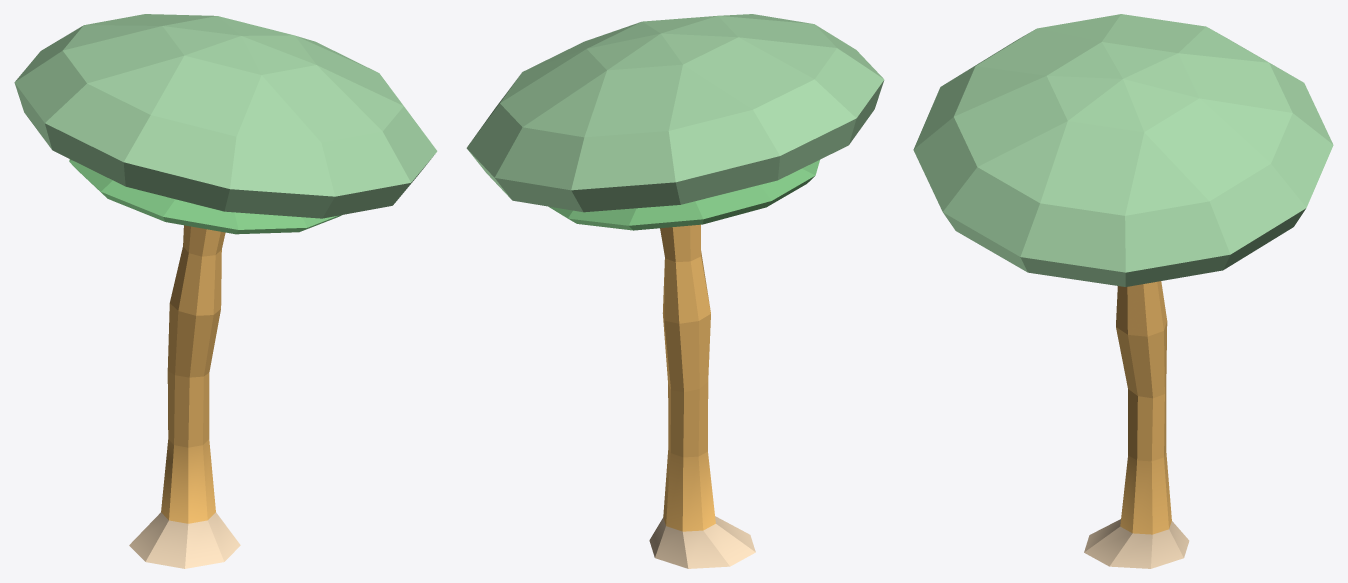
Rendered from mushroom_002.fbx.
3 renders of one model, left to right at view 1: azimuth 30°, elevation 25°; view 2: azimuth 150°, elevation 25°; view 3: azimuth 270°, elevation 25°, orthographic. The views are drawn at different scales.
Visible parts, largest first — view 1: mushroom.002; view 2: mushroom.002; view 3: mushroom.002.
Boxes of the visible parts, x1=… form: mushroom.002: x1=14, y1=14, x2=437, y2=568; mushroom.002: x1=466, y1=14, x2=884, y2=568; mushroom.002: x1=913, y1=14, x2=1333, y2=568.
Size of the model in its own units: 1237 by 1645 by 1263.
1 material, 1 textured.
